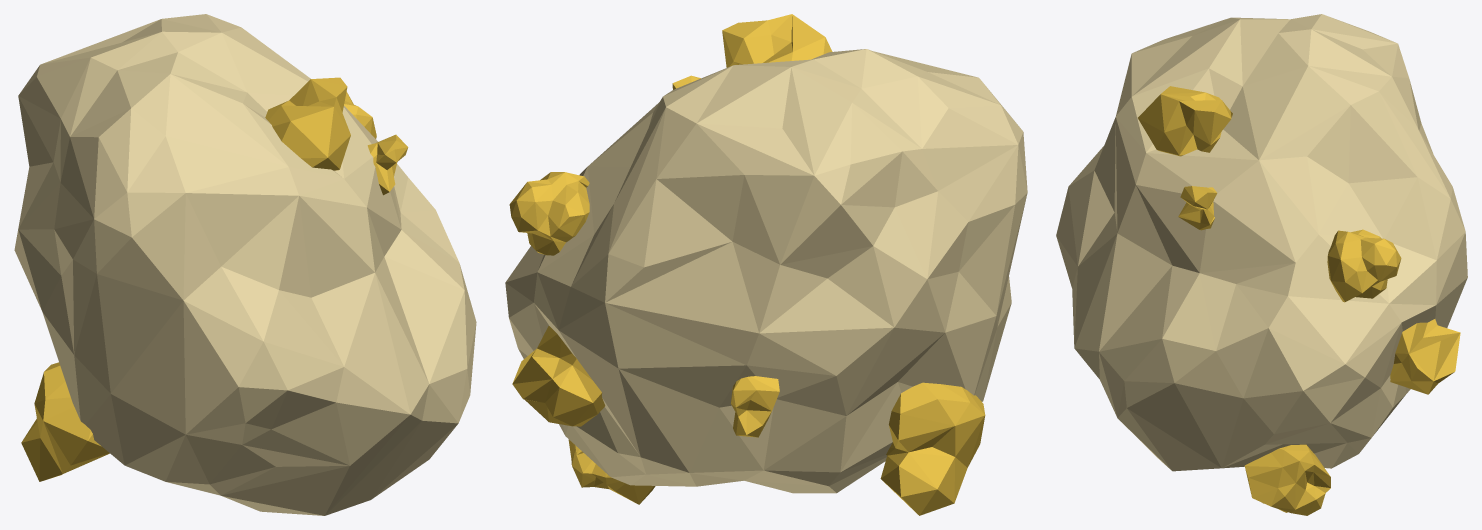
Rendered from MetalOre (46).fbx.
3 views of the same model, side by side, from view 1: azimuth 30°, elevation 25°; view 2: azimuth 150°, elevation 25°; view 3: azimuth 270°, elevation 25° (orthographic). The views are drawn at different scales.
Parts seen in each view (by area): view 1: Asteroid401; view 2: Asteroid401; view 3: Asteroid401.
Part boxes in pixels (<box>): Asteroid401: <box>14,14,476,515</box>; Asteroid401: <box>505,14,1027,515</box>; Asteroid401: <box>1056,14,1467,515</box>.
Bounding box in the file's own units: 299 × 318 × 286.
